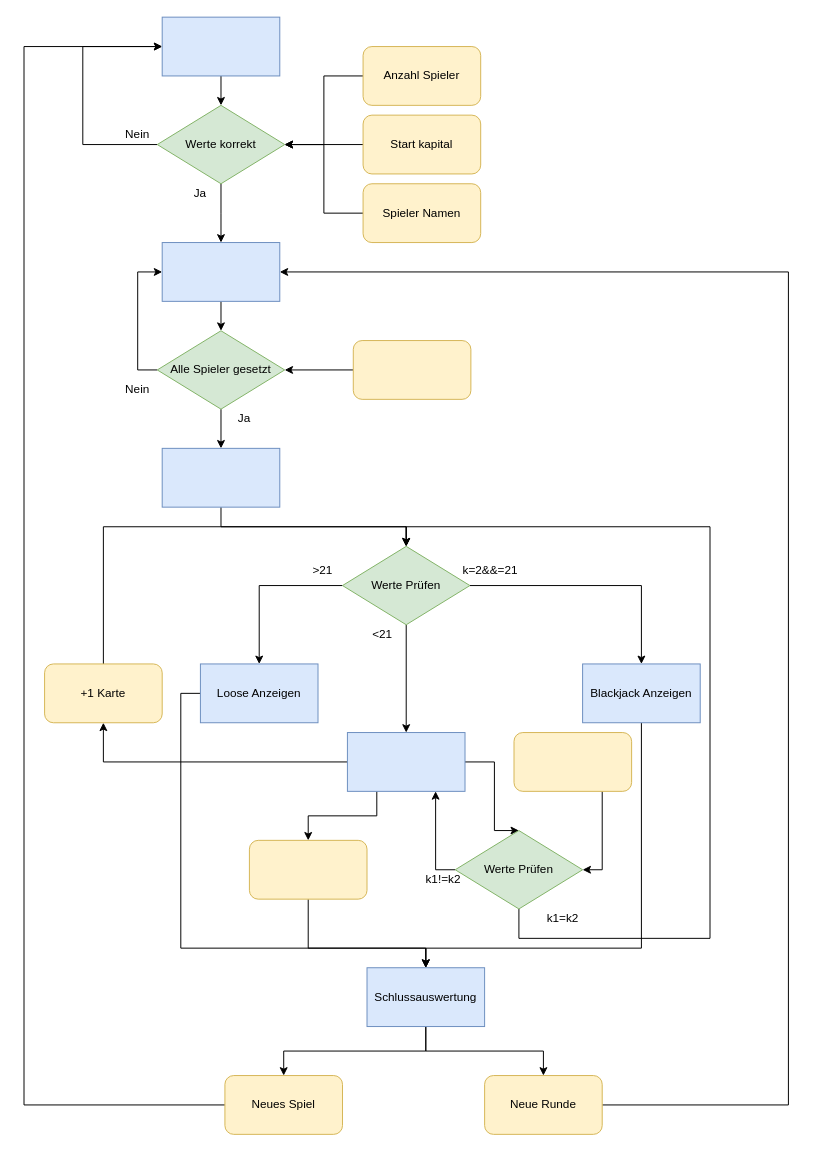
Image size: 813x1152. Some labels were removed from this diagram. The centre of each missing label's shape, as x and y in pixels:
2 Karten geben: [220,477]
Setzen: [411,369]
Spielsteuerung setzen: [220,271]
Spielsteuerung Spiel: [405,761]
Splitt: [572,761]
Stand: [307,869]
Start Menu: [220,46]
